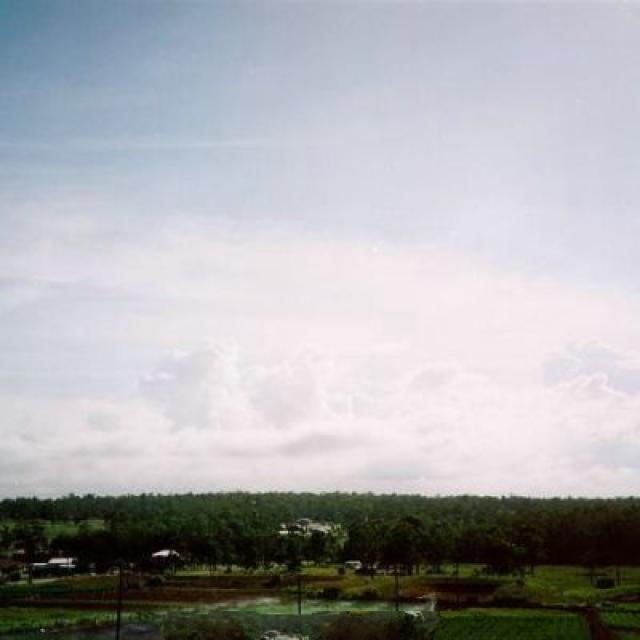St: (1, 79, 640, 447)
